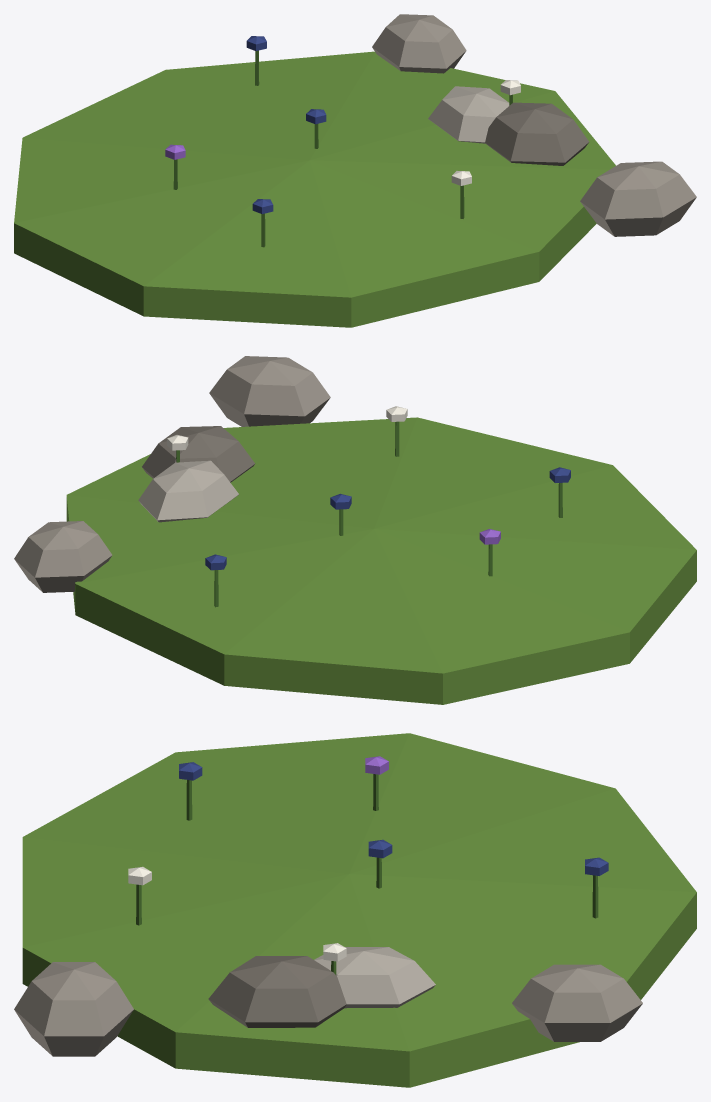
The model's file is cover_alpine_flowers.glb.
3 views of the same model, one above another, from view 1: azimuth 30°, elevation 25°; view 2: azimuth 150°, elevation 25°; view 3: azimuth 270°, elevation 25° (orthographic). The views are drawn at different scales.
Visible parts, largest first — view 1: biome_mountain_alpine_flowers; view 2: biome_mountain_alpine_flowers; view 3: biome_mountain_alpine_flowers.
Part boxes in pixels (<box>): biome_mountain_alpine_flowers: <box>14,14,696,327</box>; biome_mountain_alpine_flowers: <box>14,356,696,704</box>; biome_mountain_alpine_flowers: <box>14,733,696,1087</box>.
Bounding box in the file's own units: 3 × 0.516 × 2.72.
